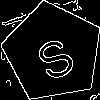S: (28, 27, 79, 84)
